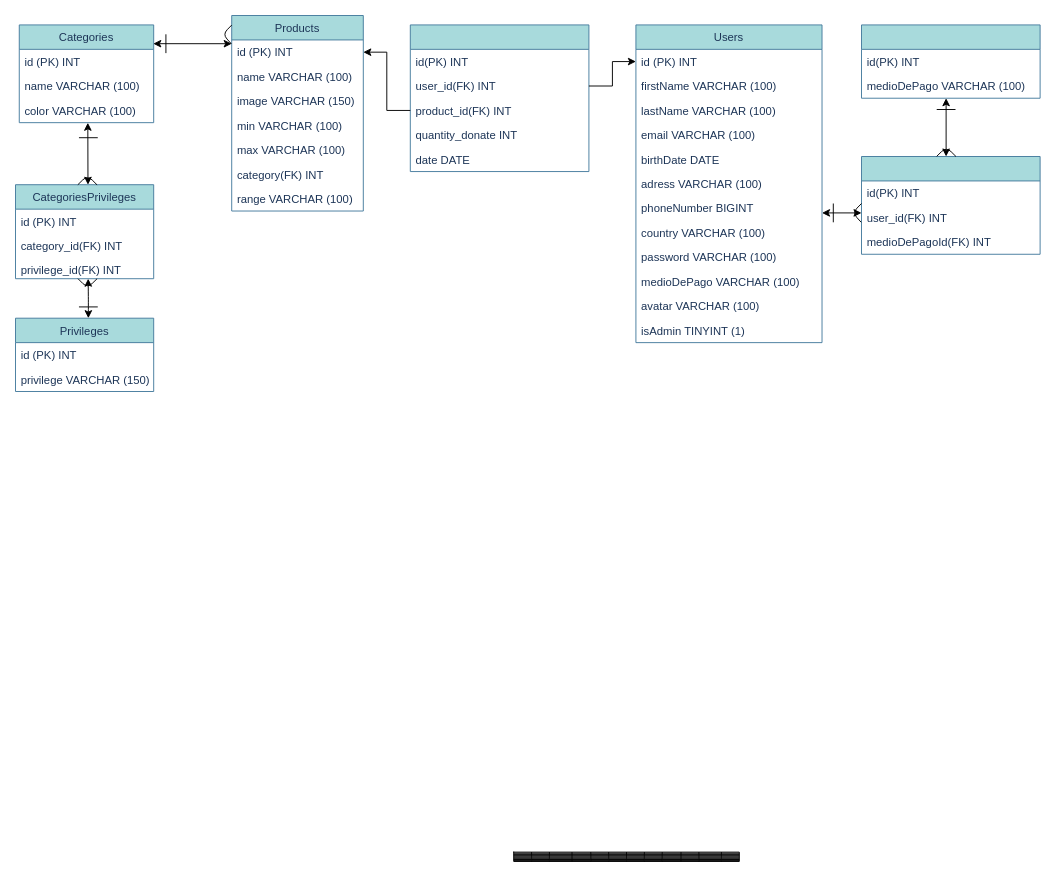
The diagram is 1056 pixels wide and 877 high, and some of its shapes have lost their labels. Each missing label, with the box of its shape:
Donaciones: (409, 24, 589, 172)
MediosDePago: (861, 24, 1040, 98)
UserMediosDePago: (861, 156, 1040, 254)
